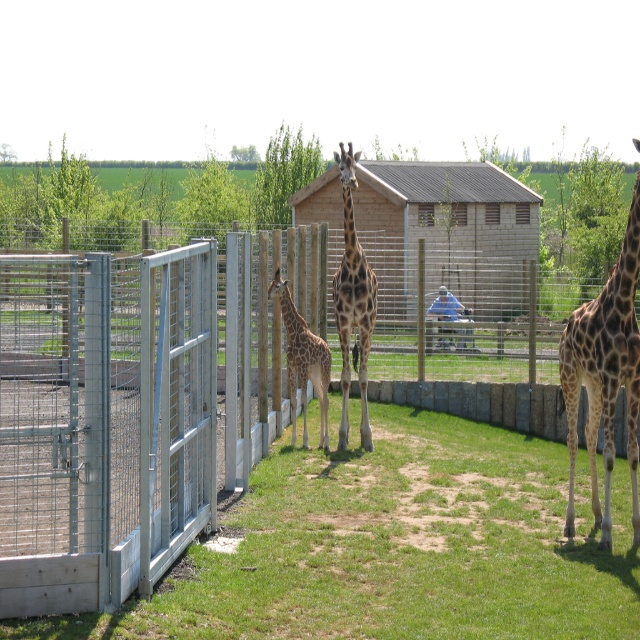Giraffe: (558, 136, 640, 556), (330, 139, 380, 449), (268, 270, 332, 450)
